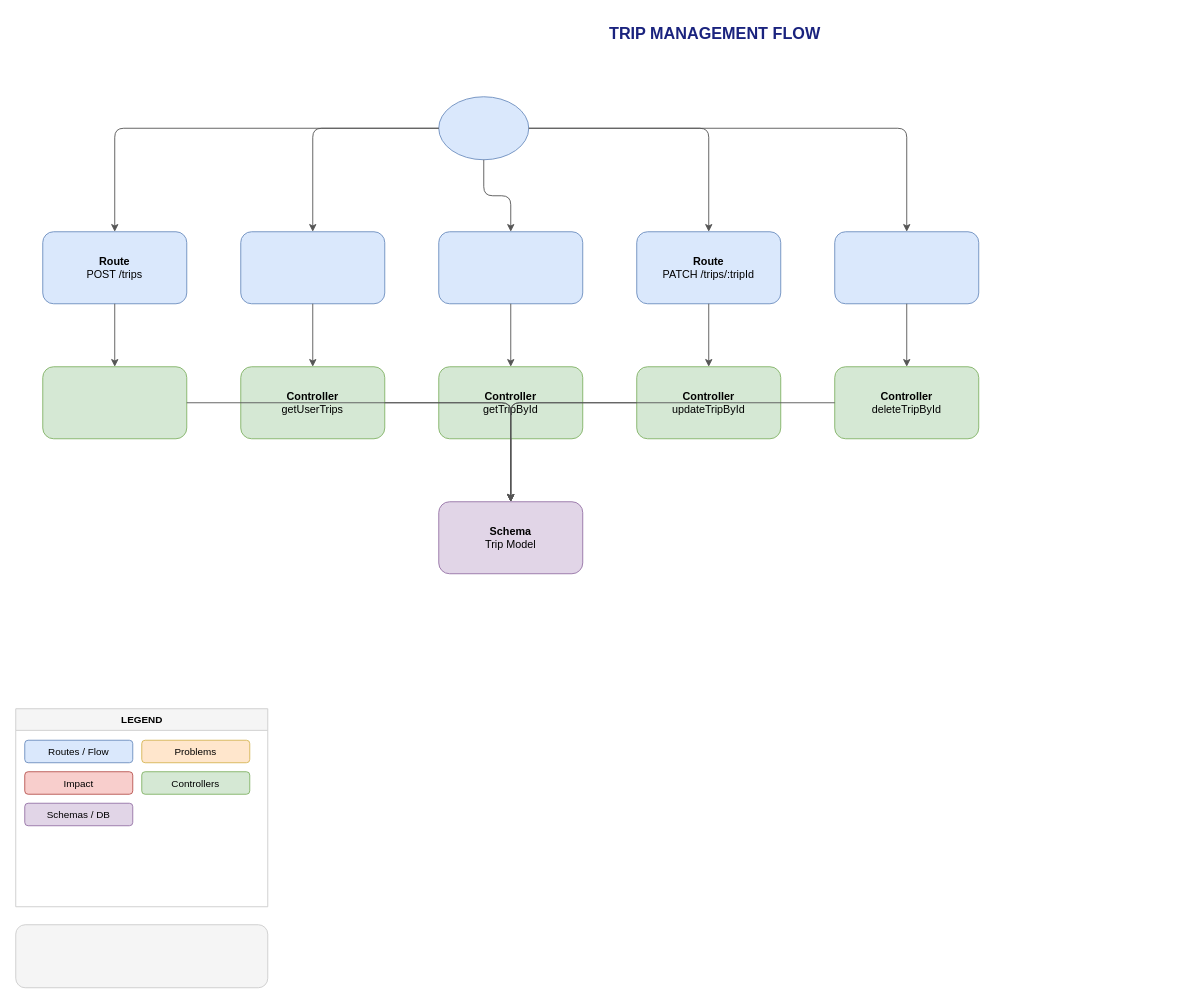
Some shapes in this 1181 by 1004 pixel diagram are drawn without their labels. The box of each missing label's shape, as (x1, y1, x2, y2) in pixels:
CLIENT: (438, 96, 529, 160)
Controller createTrip: (42, 366, 187, 439)
Route DELETE /trips/:tripId: (834, 231, 979, 304)
Route GET /trips: (240, 231, 385, 304)
Route GET /trips/:tripId: (438, 231, 583, 304)
Scope: Tourism Planner - Trip Flow Author: Antigravity Agent Date: 2026-06-04: (15, 924, 268, 988)
